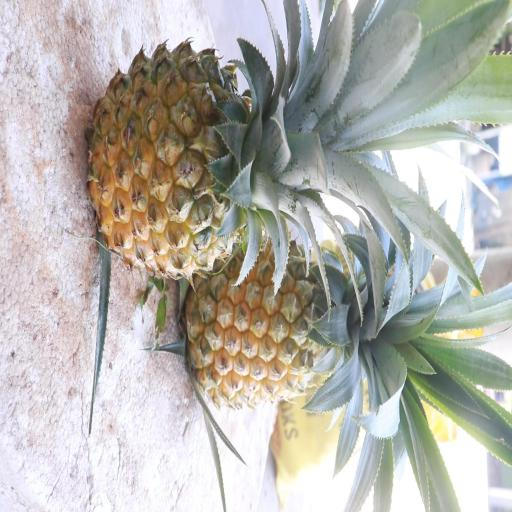Pineapple - v8 v1: (82, 31, 332, 285), (180, 228, 392, 420)
